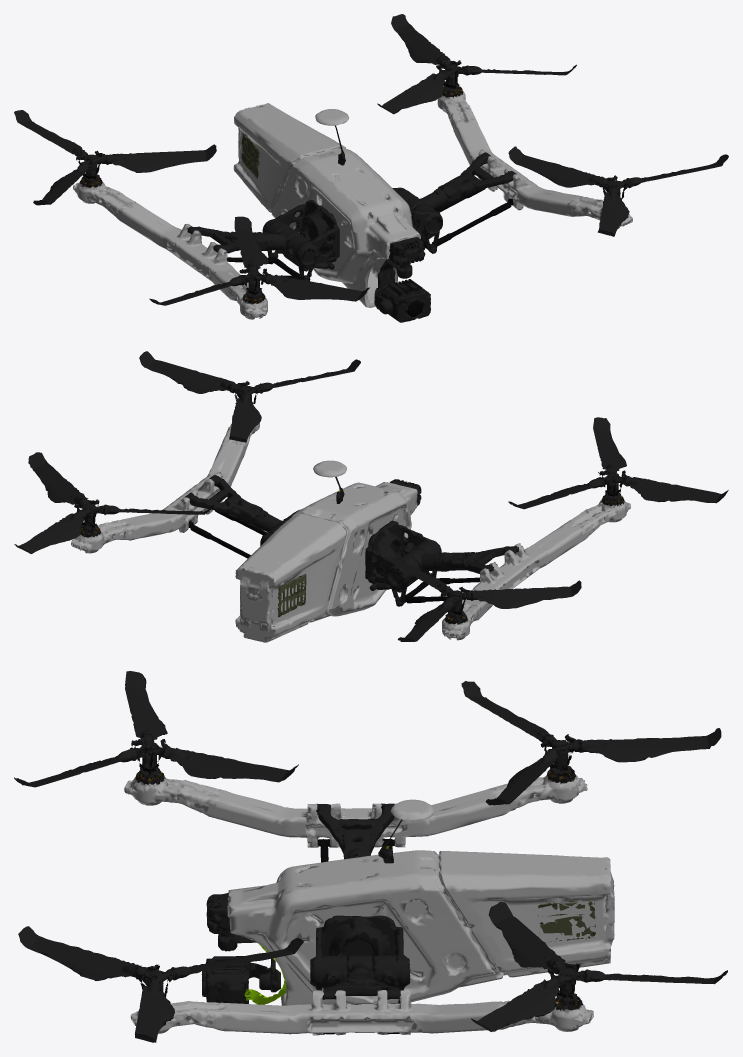
Rendered from fly.glb.
3 renders of one model, top to bottom at view 1: azimuth 30°, elevation 25°; view 2: azimuth 150°, elevation 25°; view 3: azimuth 270°, elevation 25°, orthographic. The views are drawn at different scales.
Parts seen in each view (by area): view 1: 无人机; view 2: 无人机; view 3: 无人机.
Boxes of the visible parts, bbox=[...] form: 无人机: bbox=[14, 14, 728, 322]; 无人机: bbox=[14, 351, 728, 642]; 无人机: bbox=[14, 671, 727, 1042].
Bounding box in the file's own units: 86.41 × 21.8 × 71.65.
